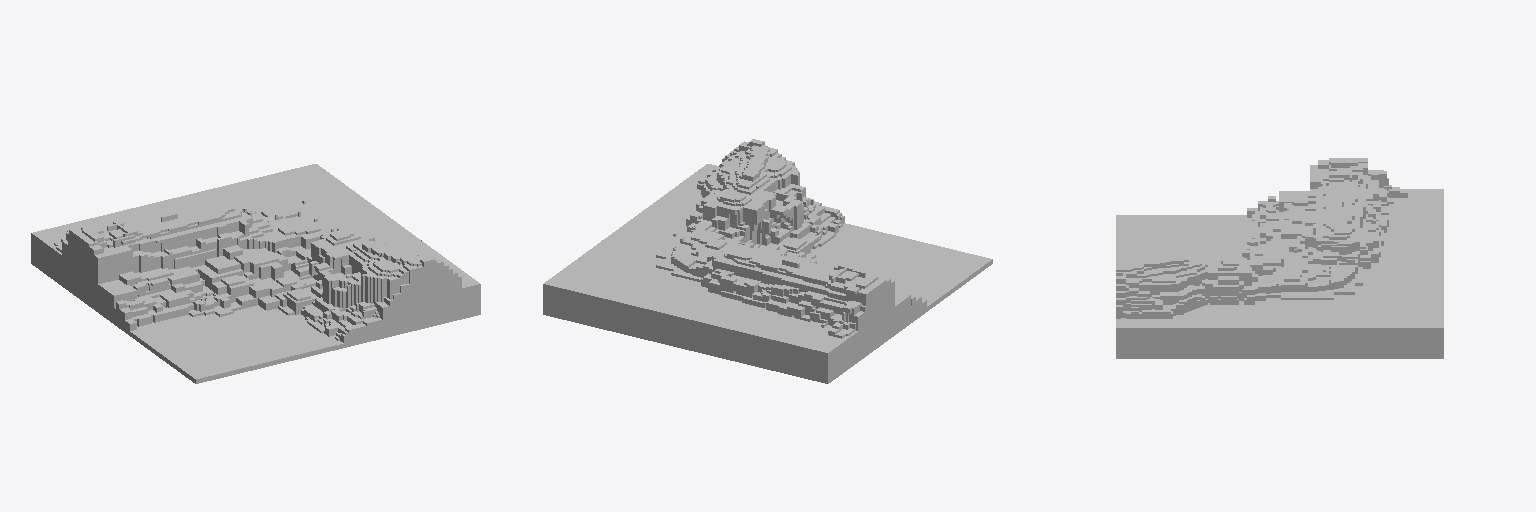
File: Map (36).obj
3 renders of one model, left to right at view 1: azimuth 30°, elevation 25°; view 2: azimuth 150°, elevation 25°; view 3: azimuth 270°, elevation 25°, orthographic.
Visible parts, largest first — view 1: ALL MAP!!!!!!!!!!!-33; view 2: ALL MAP!!!!!!!!!!!-33; view 3: ALL MAP!!!!!!!!!!!-33.
Part boxes in pixels (bbox=[...]): ALL MAP!!!!!!!!!!!-33: bbox=[31, 164, 480, 383]; ALL MAP!!!!!!!!!!!-33: bbox=[543, 139, 992, 383]; ALL MAP!!!!!!!!!!!-33: bbox=[1116, 158, 1443, 358].
Bounding box in the file's own units: 125 × 28 × 125.